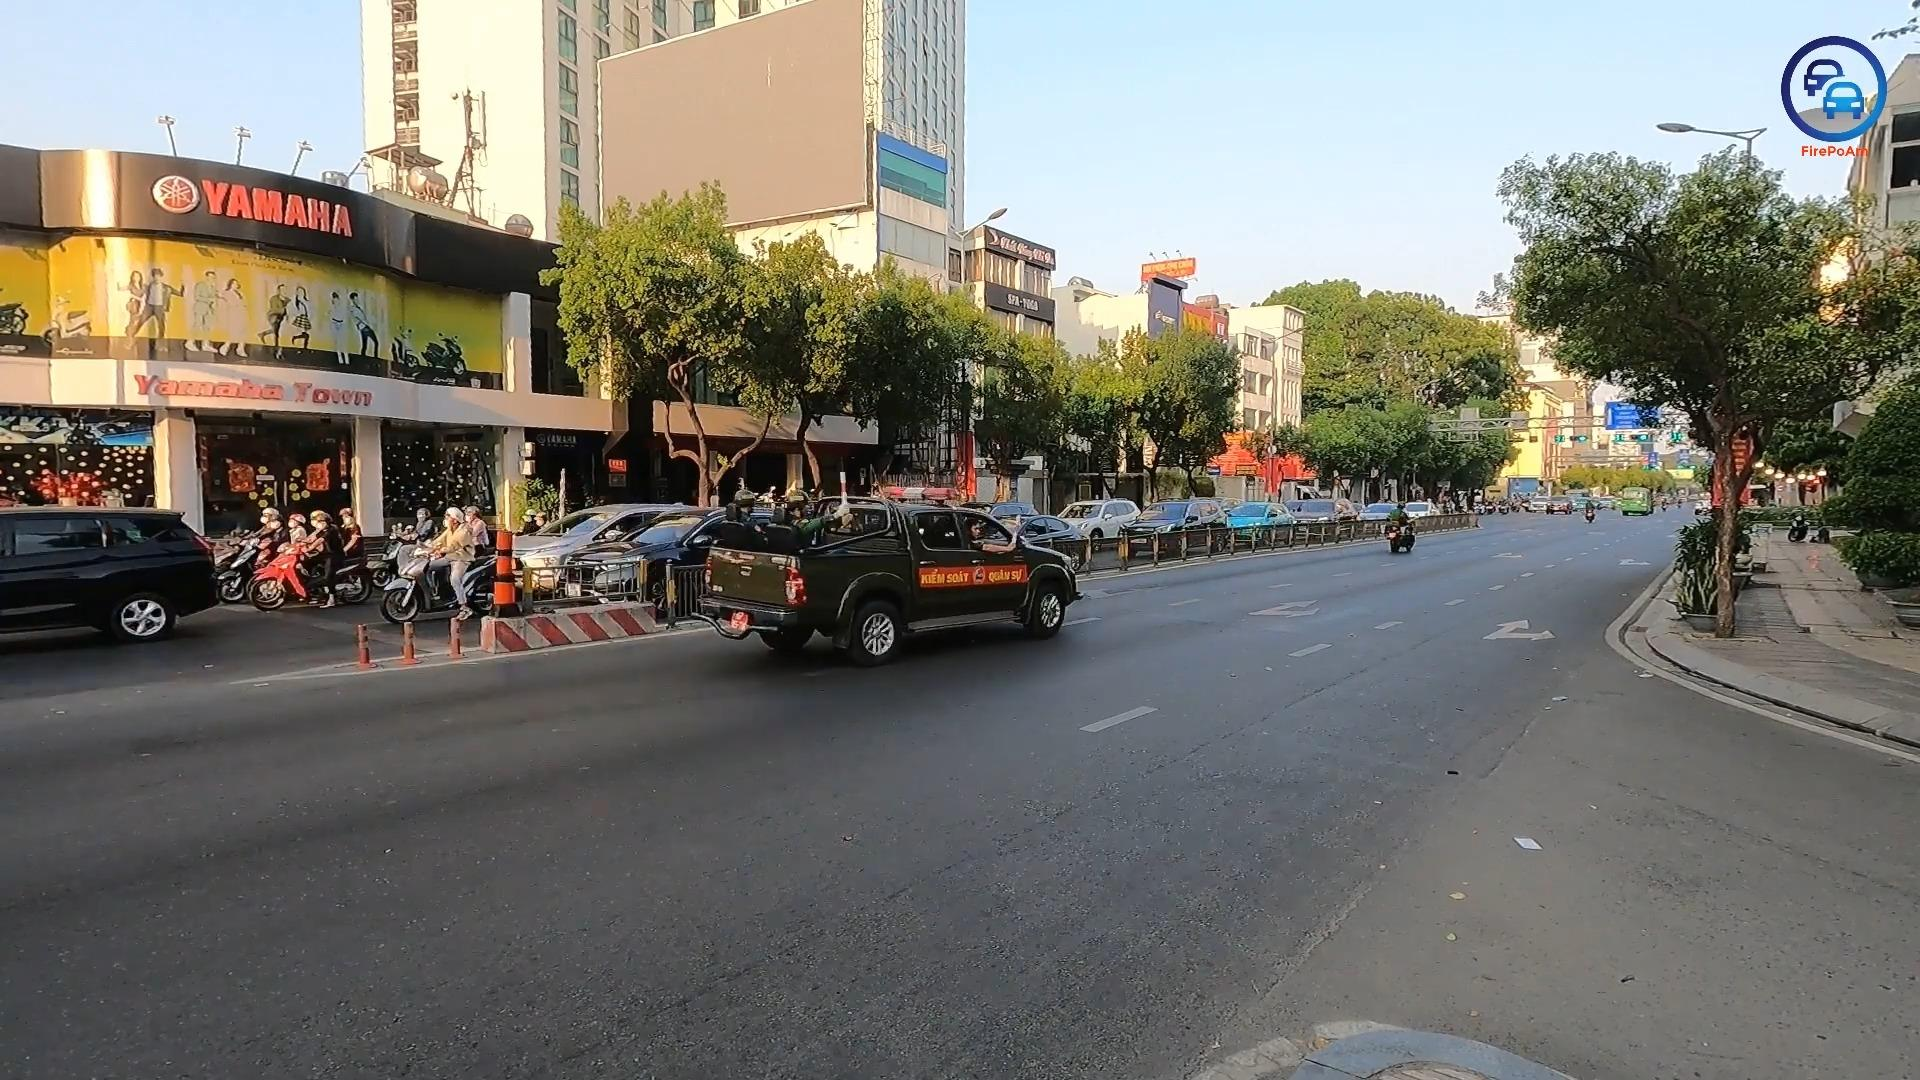bien_so: (729, 610, 749, 632)
